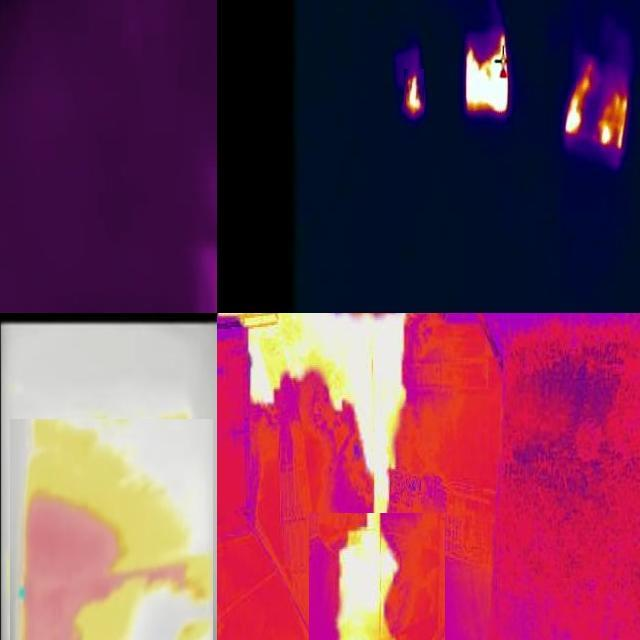fire: (218, 314, 468, 506), (10, 419, 213, 640), (309, 513, 445, 640), (465, 28, 511, 114), (597, 90, 629, 155), (566, 68, 591, 138), (404, 69, 424, 119)
